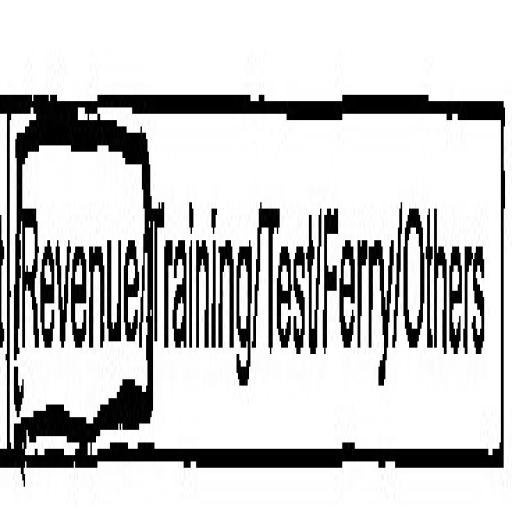check: (4, 0, 146, 512)
